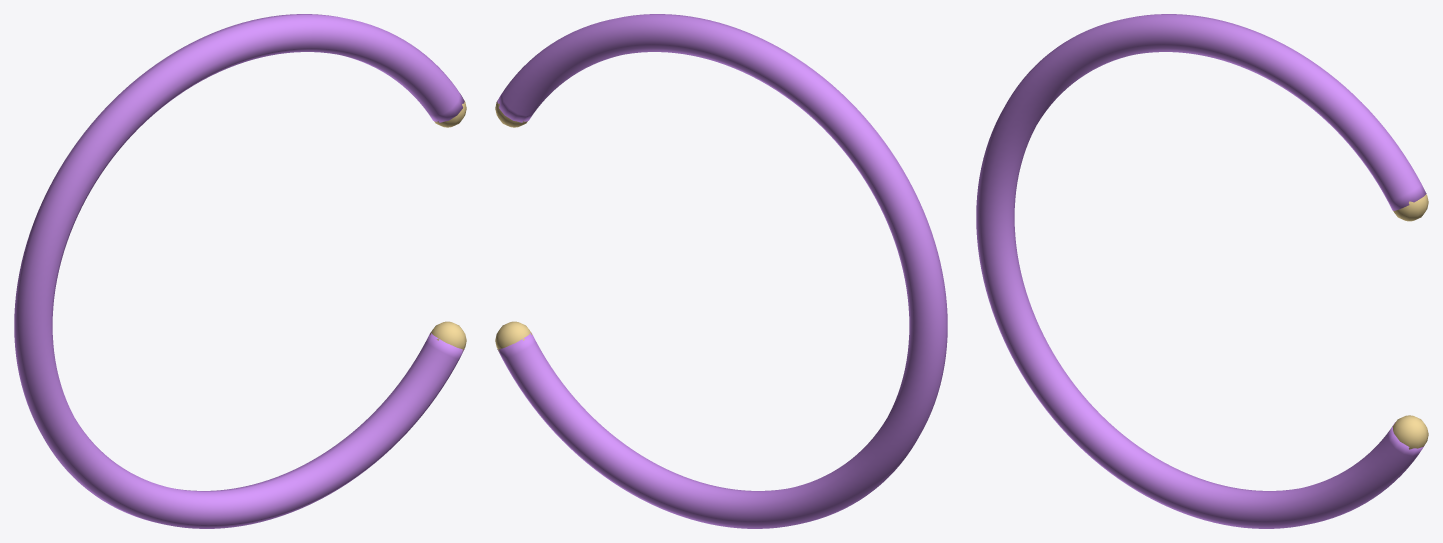
The model's file is large-arc-Bp2pjawV.glb.
The picture shows the model from 3 angles, left to right: view 1: azimuth 30°, elevation 25°; view 2: azimuth 150°, elevation 25°; view 3: azimuth 330°, elevation 25°; orthographic projection.
Visible parts, largest first — view 1: R3D_large-arc_Body_0, R3D_large-arc_Tip_1; view 2: R3D_large-arc_Body_0, R3D_large-arc_Tip_1; view 3: R3D_large-arc_Body_0, R3D_large-arc_Tip_1, R3D_large-arc_Tip_0.
Part boxes in pixels (box(x1,y1,x2,y2)): R3D_large-arc_Body_0: box(14, 14, 464, 528); R3D_large-arc_Tip_1: box(430, 321, 466, 351); R3D_large-arc_Body_0: box(497, 14, 947, 528); R3D_large-arc_Tip_1: box(495, 321, 531, 351); R3D_large-arc_Body_0: box(976, 14, 1426, 528); R3D_large-arc_Tip_1: box(1392, 415, 1428, 449); R3D_large-arc_Tip_0: box(1393, 194, 1428, 221).
Size of the model in its own units: 2.42 by 2.58 by 0.18.
